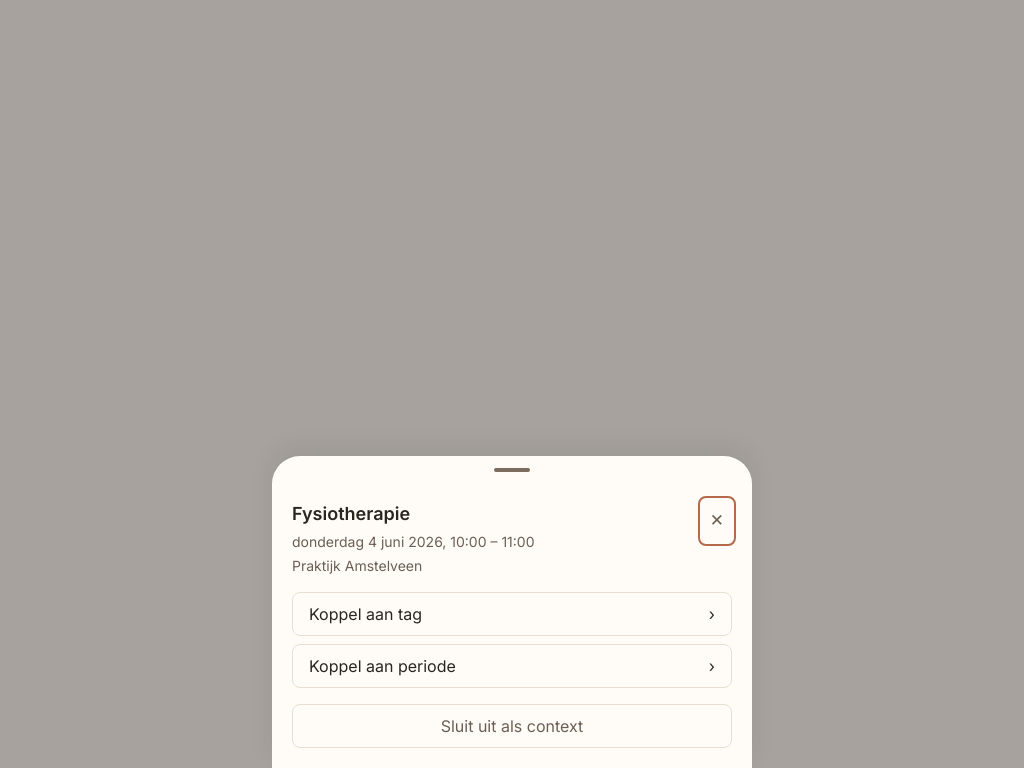
it: CalendarEventSheet › error handling › PATCH failure shows actionError and leaves the sheet open
Click the button "Sluit uit als context" at {"x": 512, "y": 726}, box [292,704,732,748]
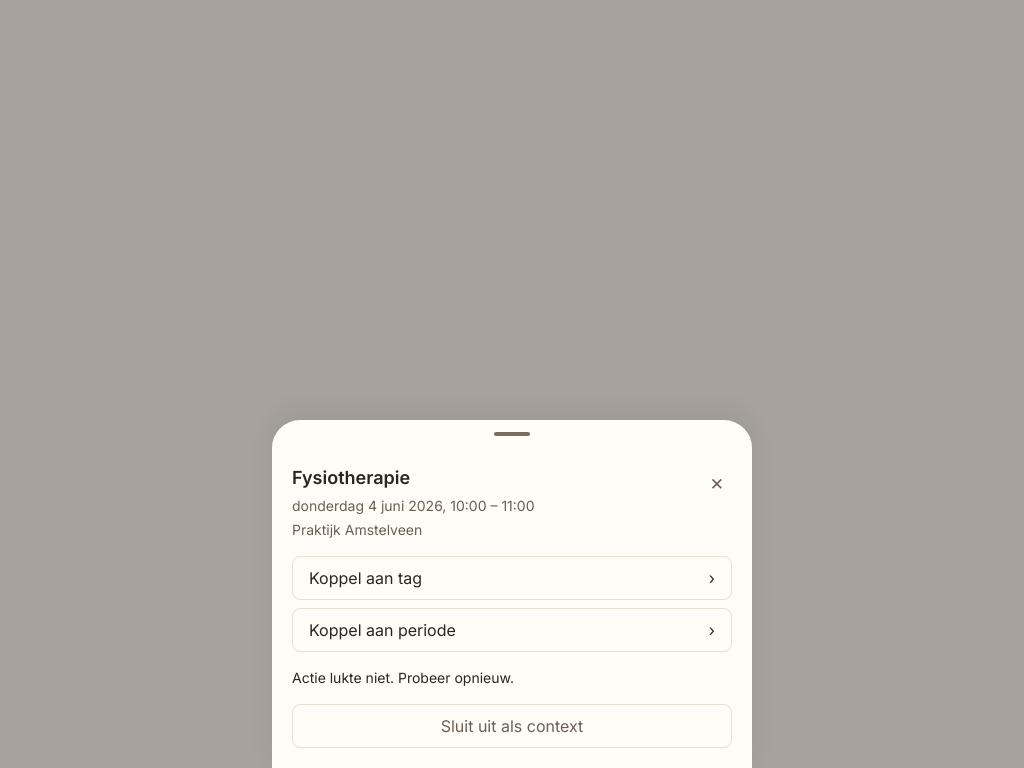
Expected: the text "Actie lukte niet. Probeer opnieuw." is shown, [292,669,514,686]
